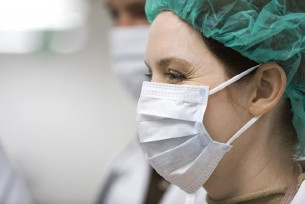Mask: (123, 53, 252, 181)
